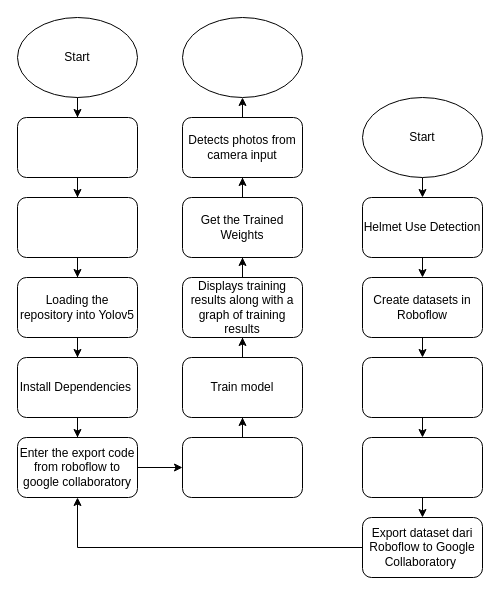
Some shapes in this 500 by 595 pixel diagram are drawn without their labels. Each missing label, with the centre of its shape:
"End" goes at pixel 242 57.
"Enter to Yolov5 directory" goes at pixel 242 467.
"Finding good datasets and annotating them" goes at pixel 422 387.
"Generate Photo (dataset) in Roboflow" goes at pixel 422 467.
"Import library" goes at pixel 77 227.
"Making sure the google collaboratory runtime is GPU" goes at pixel 77 147.
